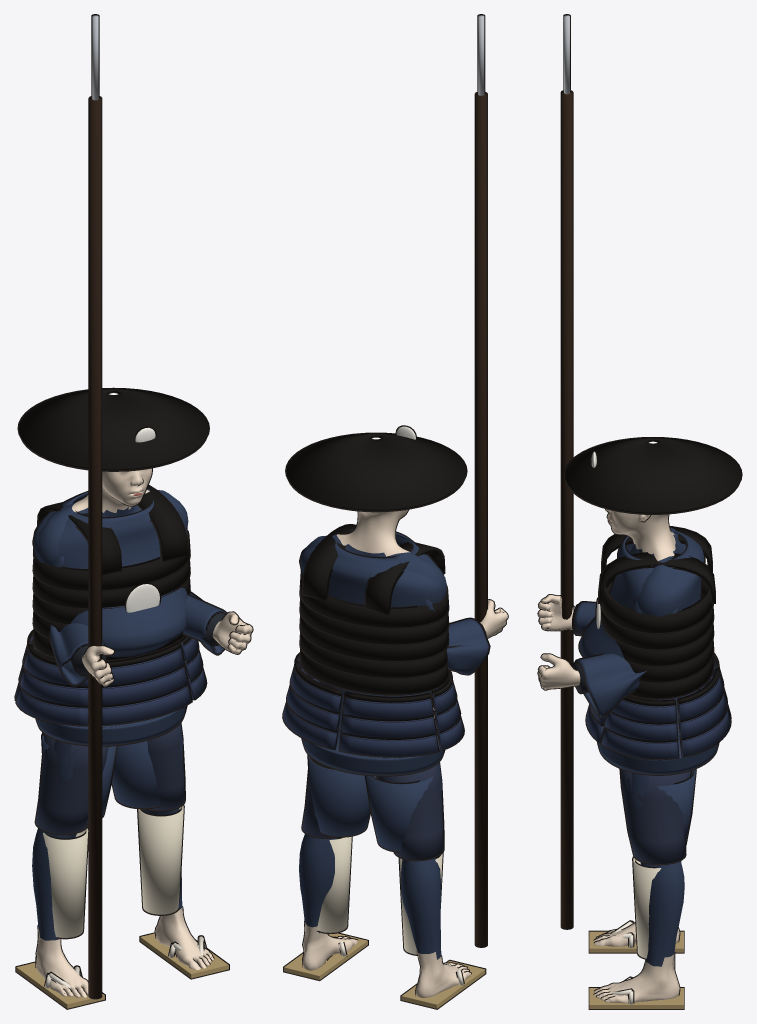
Rendered from bushi_ashigaru.glb.
3 views of the same model, side by side, from view 1: azimuth 30°, elevation 25°; view 2: azimuth 150°, elevation 25°; view 3: azimuth 270°, elevation 25° (orthographic). The views are drawn at different scales.
Visible parts, largest first — view 1: Human, yari_e, jingasa, shitagi, kusazuri0, kyahan.L, momohiki.R, kusazuri4, kyahan.R, yari_e_sen, dou0, hakama.L (+18 smaller); view 2: Human, jingasa, yari_e, shitagi, kusazuri3, hakama.L, kusazuri2, momohiki.R, hakama.R, dou0, dou4, dou1 (+18 smaller); view 3: Human, jingasa, yari_e, shitagi, momohiki.L, kusazuri1, yari_e_sen, kusazuri2, sode.L, dou0, dou1, watagami.L (+13 smaller).
Boxes of the visible parts, x1,y1,x2,y2 form: Human: (32,468,252,997); yari_e: (89,97,101,997); jingasa: (19,388,208,470); shitagi: (33,492,187,745); kusazuri0: (102,643,191,724); kyahan.L: (138,805,183,914); momohiki.R: (35,734,108,833); kusazuri4: (16,645,88,725); kyahan.R: (43,828,88,937); yari_e_sen: (88,96,102,999); dou0: (33,533,189,590); hakama.L: (112,741,160,807); Human: (299,510,507,997); jingasa: (286,433,466,510); yari_e: (475,93,486,946); shitagi: (300,529,443,775); kusazuri3: (339,692,438,756); hakama.L: (308,756,373,836); kusazuri2: (283,661,341,749); momohiki.R: (377,765,443,859); hakama.R: (366,775,433,851); dou0: (300,574,448,627); dou4: (300,650,448,694); dou1: (300,600,448,644); Human: (538,509,685,1003); jingasa: (565,437,741,513); yari_e: (561,91,572,928); shitagi: (579,530,717,774); momohiki.L: (620,769,690,863); kusazuri1: (602,696,678,758); yari_e_sen: (560,90,573,929); kusazuri2: (678,669,730,756); sode.L: (576,600,677,717); dou0: (601,577,712,632); dou1: (601,582,713,649); watagami.L: (598,553,715,602).
Bounding box in the file's own units: 0.5136 × 2.78 × 0.5579.
